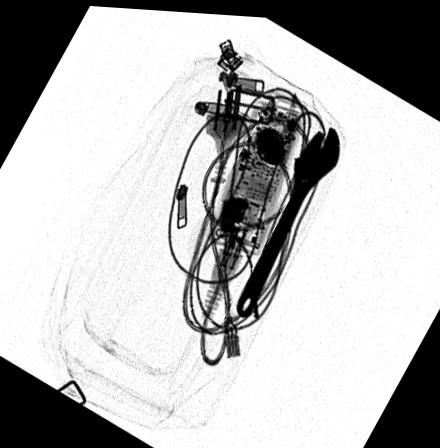Wrench: (237, 121, 340, 316)
